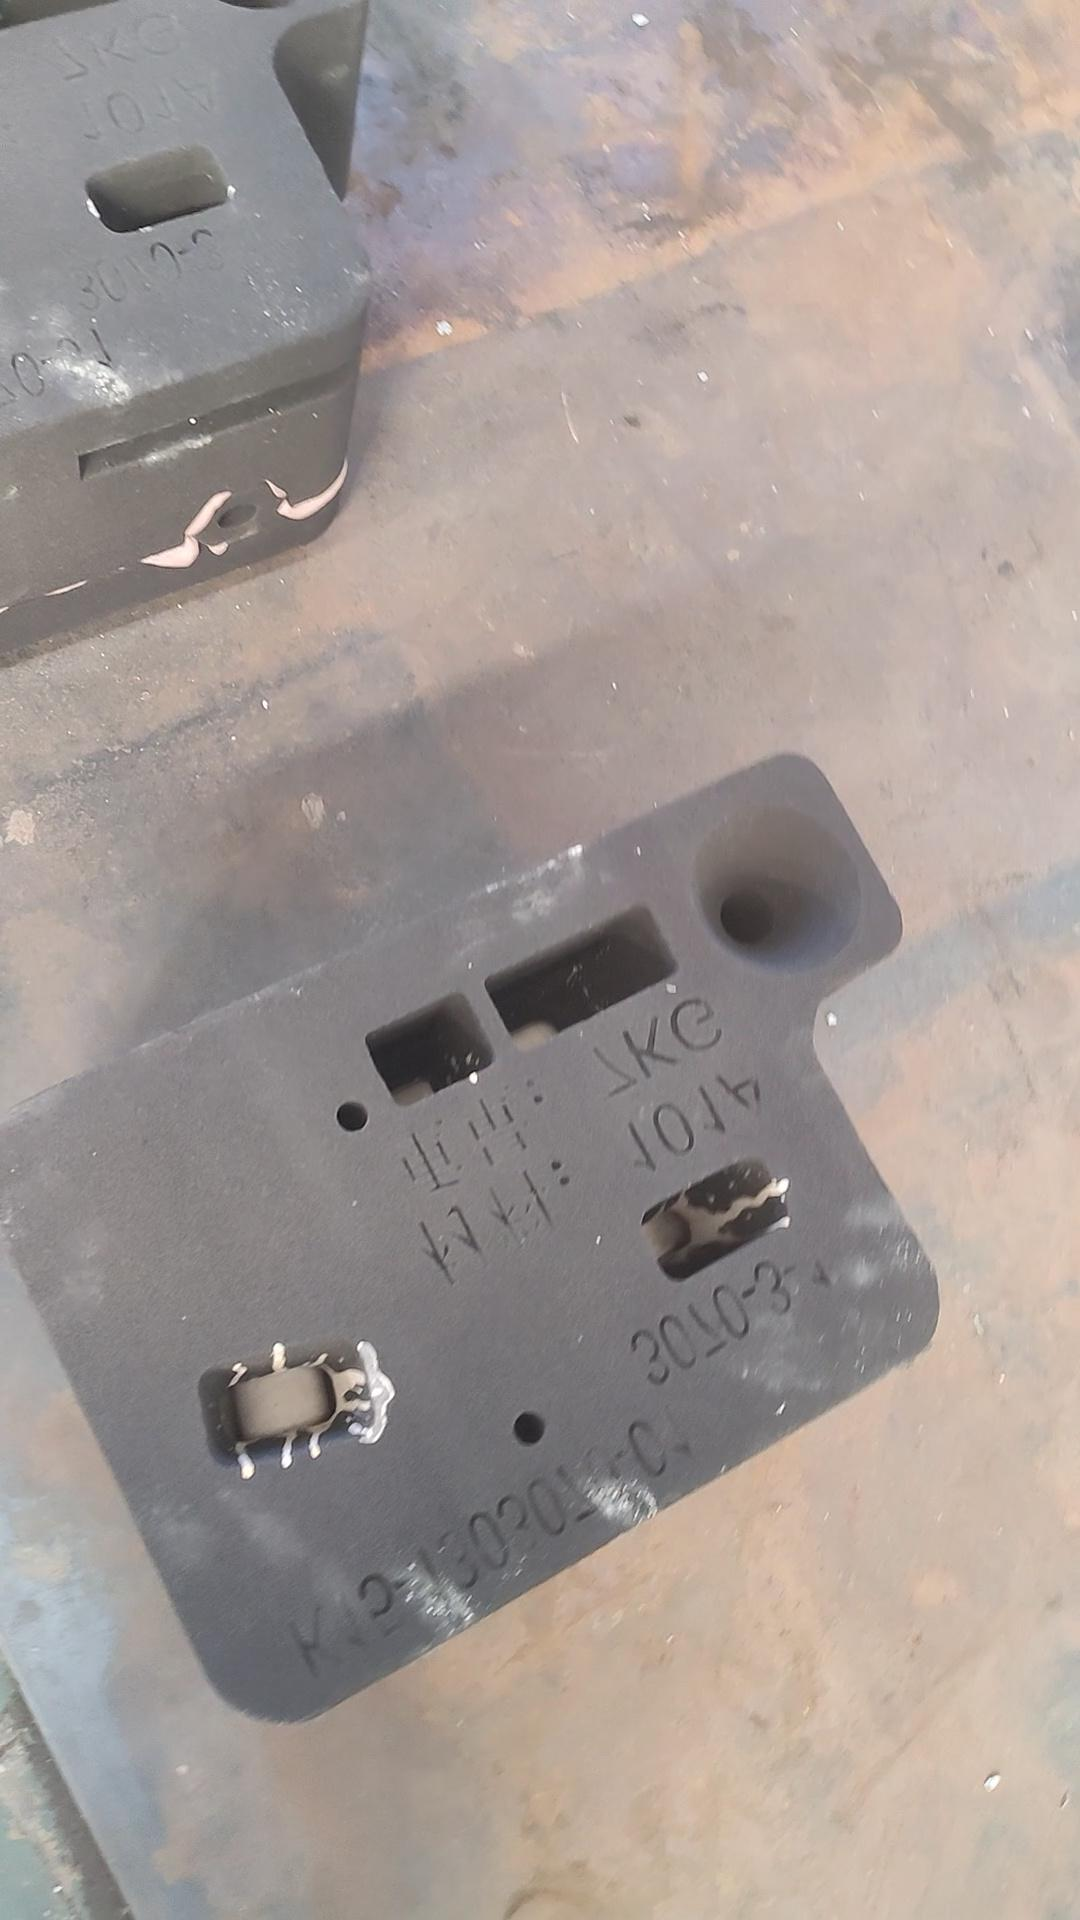pouring hole: (688, 804, 865, 975)
